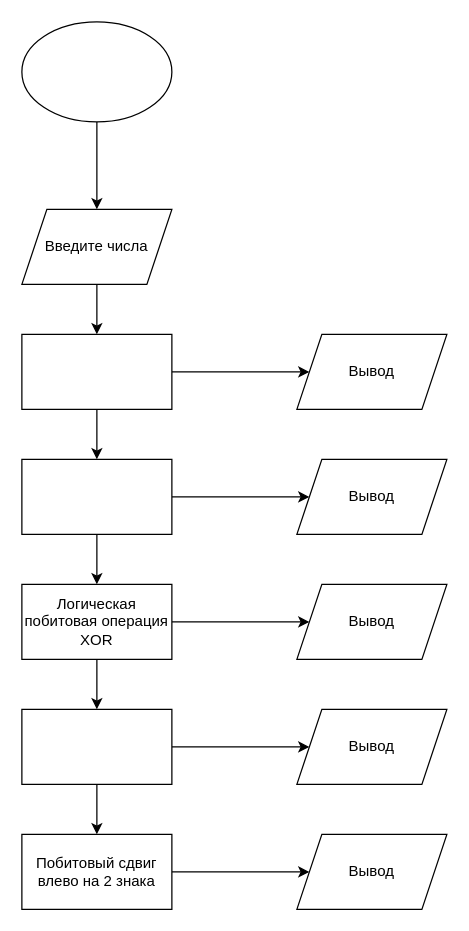
This 469x931 diagram has some shape labels left out. The centre of each missing label's shape, as x and y in pixels:
Логическая побитовая операция И: the point at 96,371
Логическая побитовая операция ИЛИ: the point at 96,496
Начало: the point at 96,71
Побитовый сдвиг вправо на 2 знака: the point at 96,746
